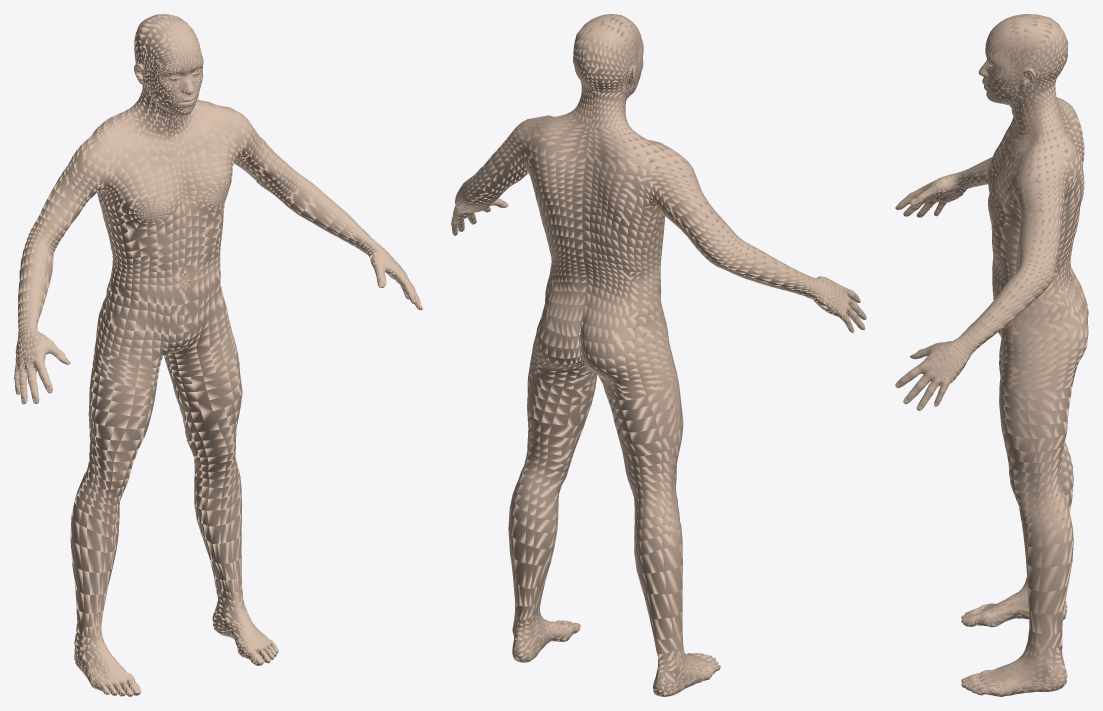
The model's file is male_medium_medium.glb.
The picture shows the model from 3 angles, left to right: view 1: azimuth 30°, elevation 25°; view 2: azimuth 150°, elevation 25°; view 3: azimuth 270°, elevation 25°; orthographic projection.
Parts seen in each view (by area): view 1: male_medium_mediumMesh; view 2: male_medium_mediumMesh; view 3: male_medium_mediumMesh.
Part boxes in pixels (x1,y1,x2,y2): male_medium_mediumMesh: (14, 14, 422, 696); male_medium_mediumMesh: (451, 14, 866, 696); male_medium_mediumMesh: (895, 14, 1088, 696).
Size of the model in its own units: 11.21 by 17.17 by 4.71.
